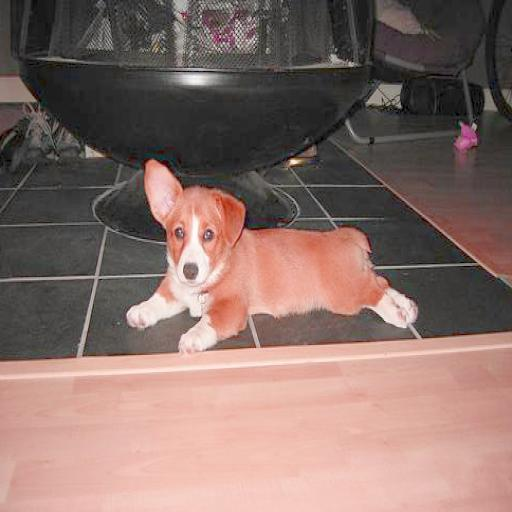dog_face: (137, 156, 232, 288)
